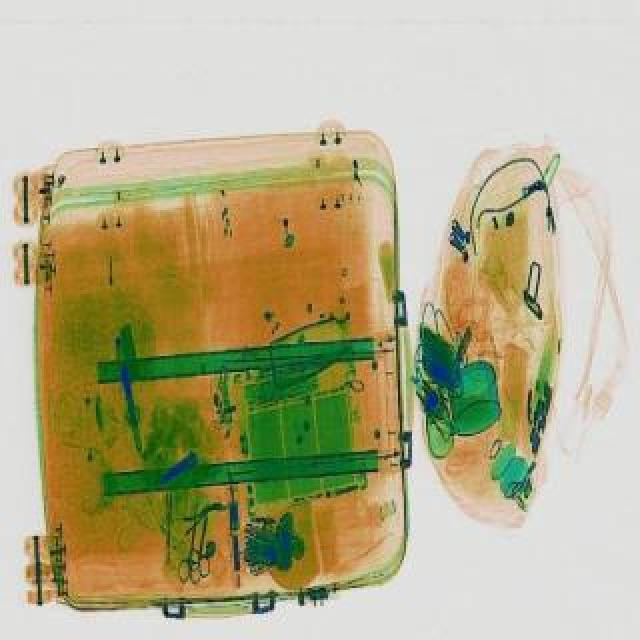pliers: (180, 498, 208, 582), (186, 508, 218, 574)
